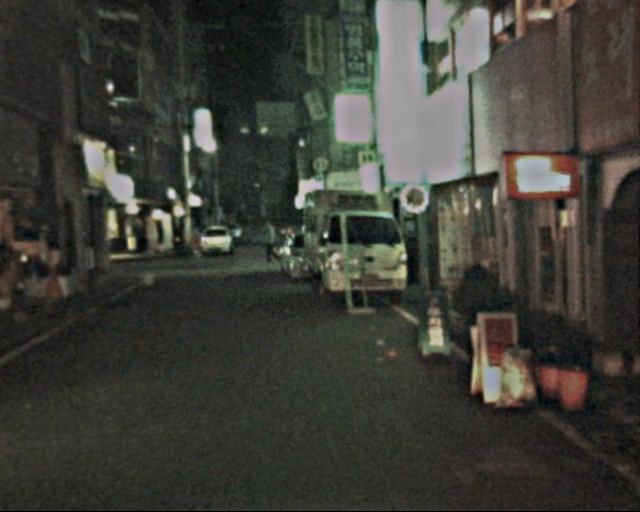person: (257, 219, 281, 270)
